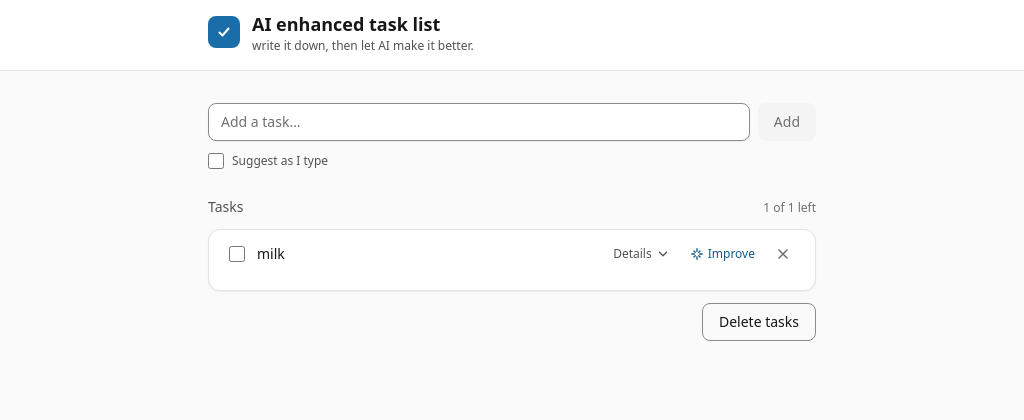
Scenario: App AI suggestions › shows the empty state when the body is null
Click the button named "Improve \"milk\" with AI".
click(722, 254)  # box [682,238,763,270]
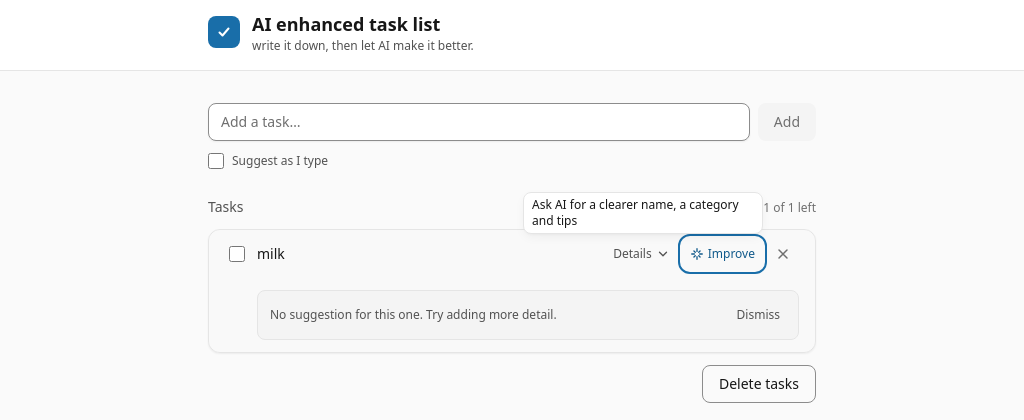
Check: the text "No suggestion for this one. Try adding more detail." is shown, box [270,307,557,323]
